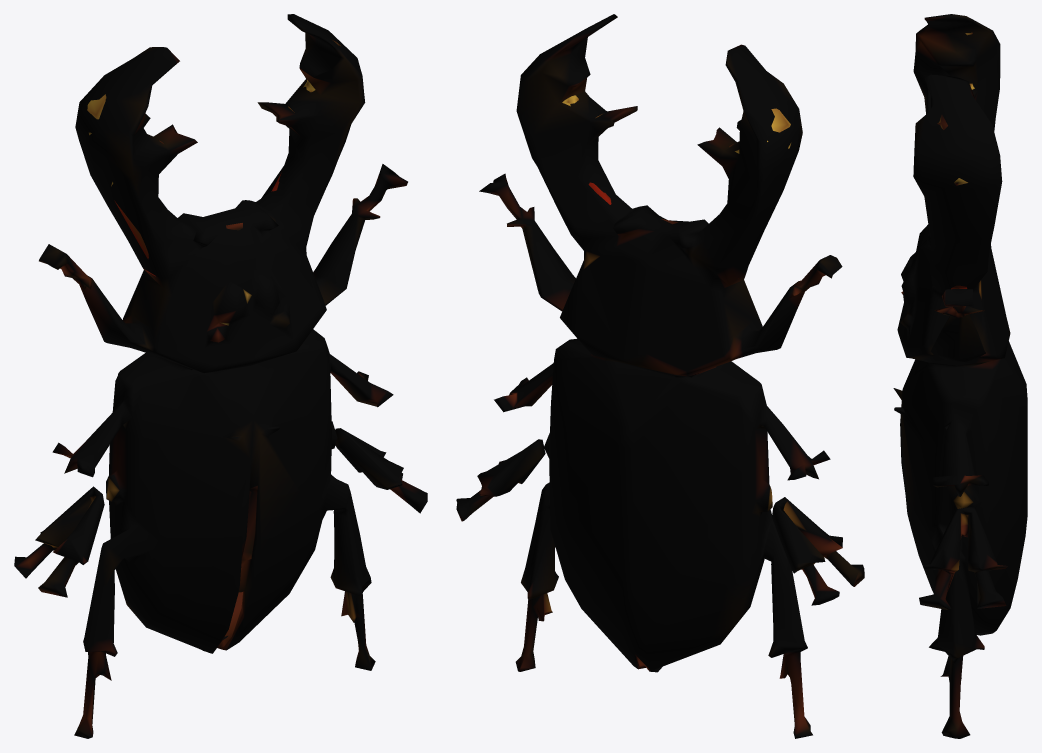
File: gen3d-stag-beetle-lod0.glb
3 renders of one model, left to right at view 1: azimuth 30°, elevation 25°; view 2: azimuth 150°, elevation 25°; view 3: azimuth 270°, elevation 25°, orthographic. The views are drawn at different scales.
Parts seen in each view (by area): view 1: part_0; view 2: part_0; view 3: part_0.
Boxes of the visible parts, box(x1,y1,x2,y2) form: part_0: box(14, 14, 427, 738); part_0: box(456, 14, 864, 738); part_0: box(893, 14, 1027, 738).
Bounding box in the file's own units: 0.607 × 0.9998 × 0.1939.
